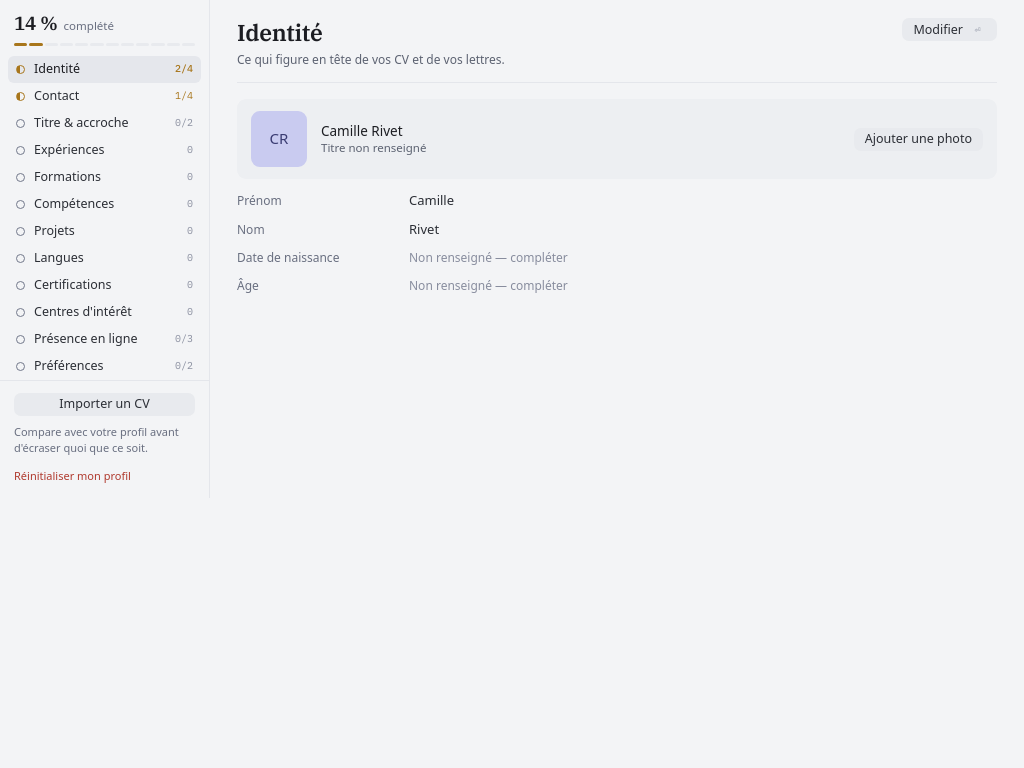
Scenario: écran Profil — réinitialisation › ne réinitialise rien tant que la confirmation n'est pas donnée
Step 1. Click the button "Réinitialiser mon profil" → coordinates (72, 475), box [14,468,131,483]
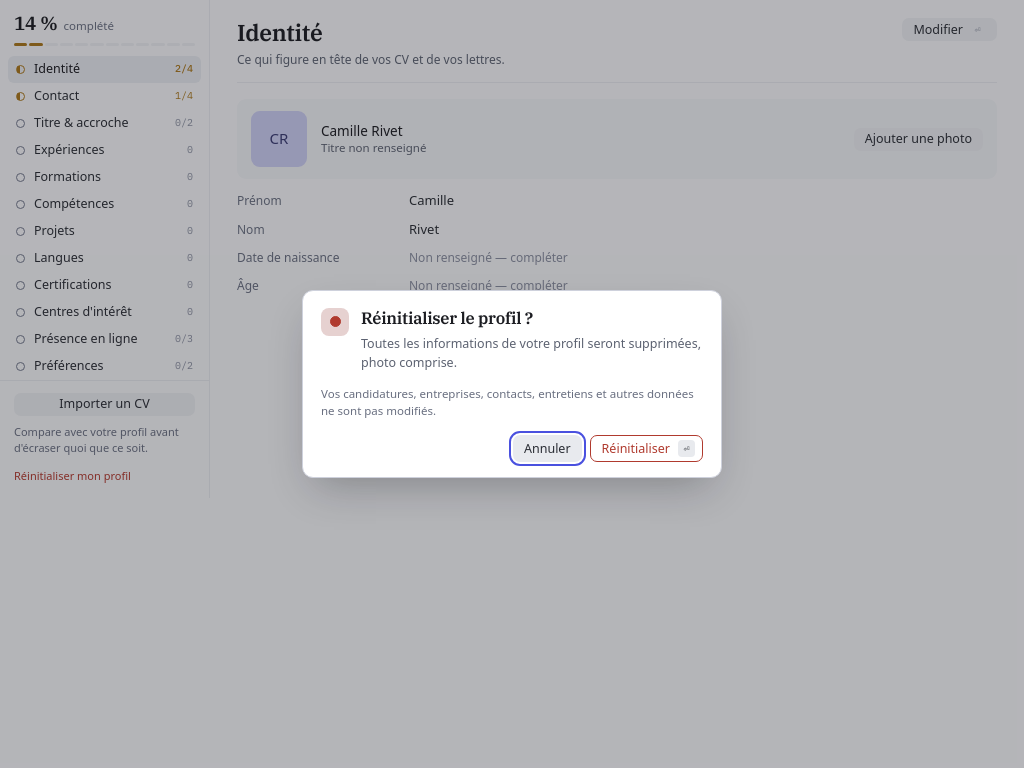
Check: the text "Toutes les informations de votre profil seront supprimées, photo comprise." is shown, box [361,335,703,373]
Check: the text "Vos candidatures, entreprises, contacts, entretiens et autres données ne sont pas modifiés." is shown, box [321,386,694,418]
Step 2. Click the button "Annuler" → coordinates (547, 449), box [513,435,582,462]
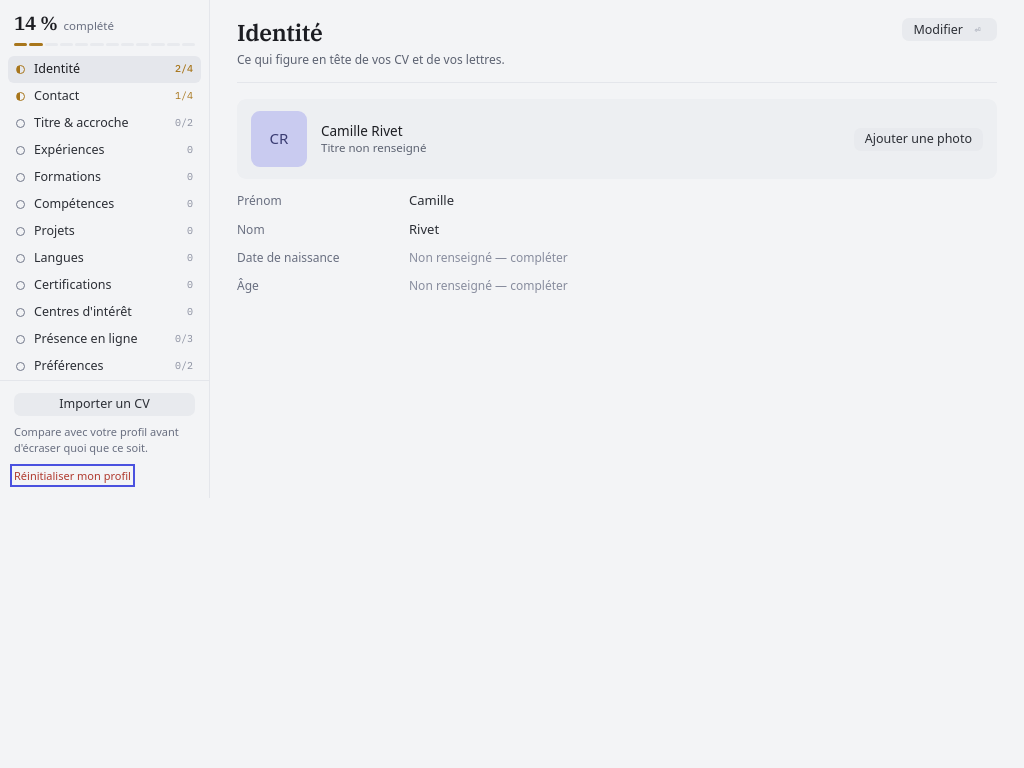
Check: the heading "Réinitialiser le profil ?" is gone
